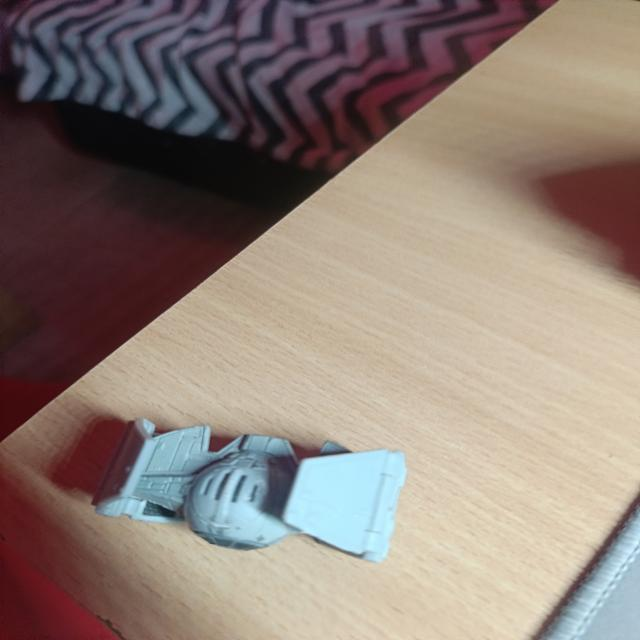tie fighter: (93, 419, 406, 562)
